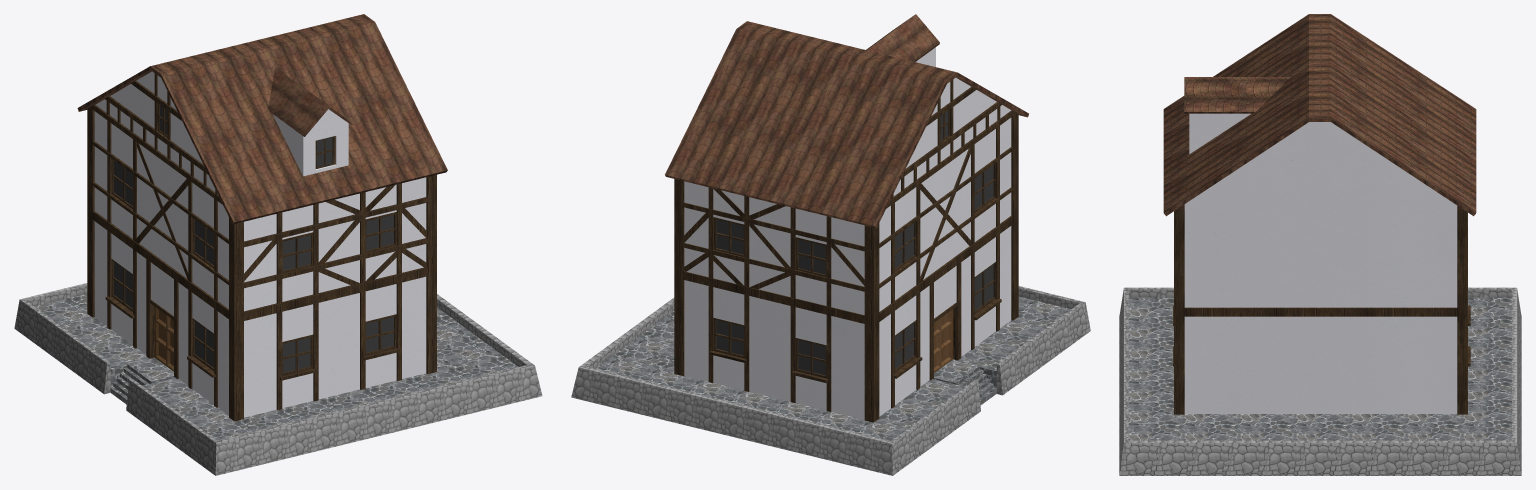
The model's file is House 11.fbx.
3 views of the same model, side by side, from view 1: azimuth 30°, elevation 25°; view 2: azimuth 150°, elevation 25°; view 3: azimuth 270°, elevation 25° (orthographic).
Visible parts, largest first — view 1: House 1.025, Cube.025, Cube.036, Cube.037, Cube.022, House 1.032, Cube.023, House 1.034; view 2: House 1.025, Cube.025, Cube.036, Cube.037, Cube.022, House 1.032, Cube.023, House 1.034; view 3: House 1.025, Cube.025, Cube.022, Cube.037, Cube.036.
Boxes of the visible parts, x1,y1,x2,y2 form: House 1.025: [94, 71, 426, 417]; Cube.025: [77, 14, 447, 224]; Cube.036: [87, 73, 436, 421]; Cube.037: [14, 283, 542, 475]; Cube.022: [34, 293, 518, 440]; House 1.032: [112, 104, 396, 375]; Cube.023: [110, 357, 174, 404]; House 1.034: [154, 307, 173, 371]; House 1.025: [684, 47, 1011, 419]; Cube.025: [665, 14, 1028, 227]; Cube.036: [674, 79, 1018, 422]; Cube.037: [571, 286, 1090, 475]; Cube.022: [595, 296, 1070, 440]; House 1.032: [713, 109, 995, 378]; Cube.023: [933, 359, 996, 404]; House 1.034: [934, 309, 953, 372]; House 1.025: [1184, 113, 1457, 413]; Cube.025: [1163, 14, 1476, 216]; Cube.022: [1128, 297, 1512, 440]; Cube.037: [1119, 287, 1521, 475]; Cube.036: [1173, 204, 1470, 414].
Size of the model in its own units: 2130 by 2007 by 2271.
